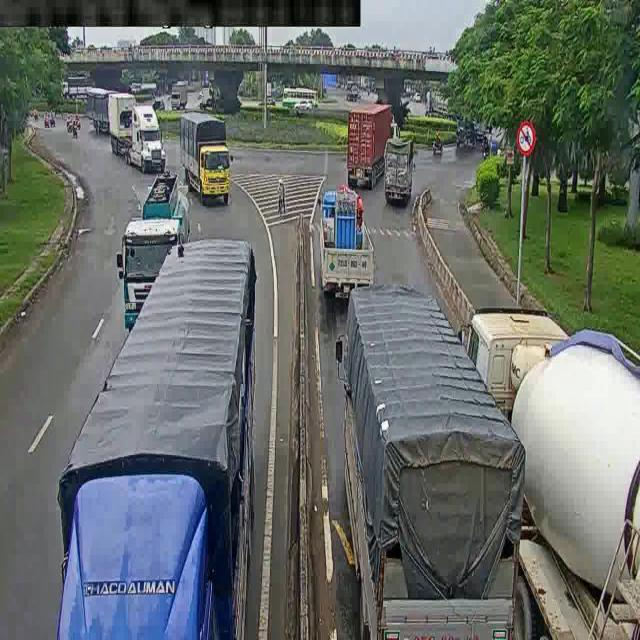car: (291, 99, 315, 117)
motorbike: (429, 126, 449, 155), (63, 114, 84, 141), (42, 106, 62, 124)
truck: (55, 238, 288, 640), (329, 279, 530, 640), (453, 306, 640, 640), (113, 182, 203, 308), (305, 183, 395, 301), (171, 110, 239, 220), (101, 91, 172, 182), (343, 99, 397, 194), (384, 132, 416, 214), (84, 82, 128, 133), (277, 85, 322, 110)
